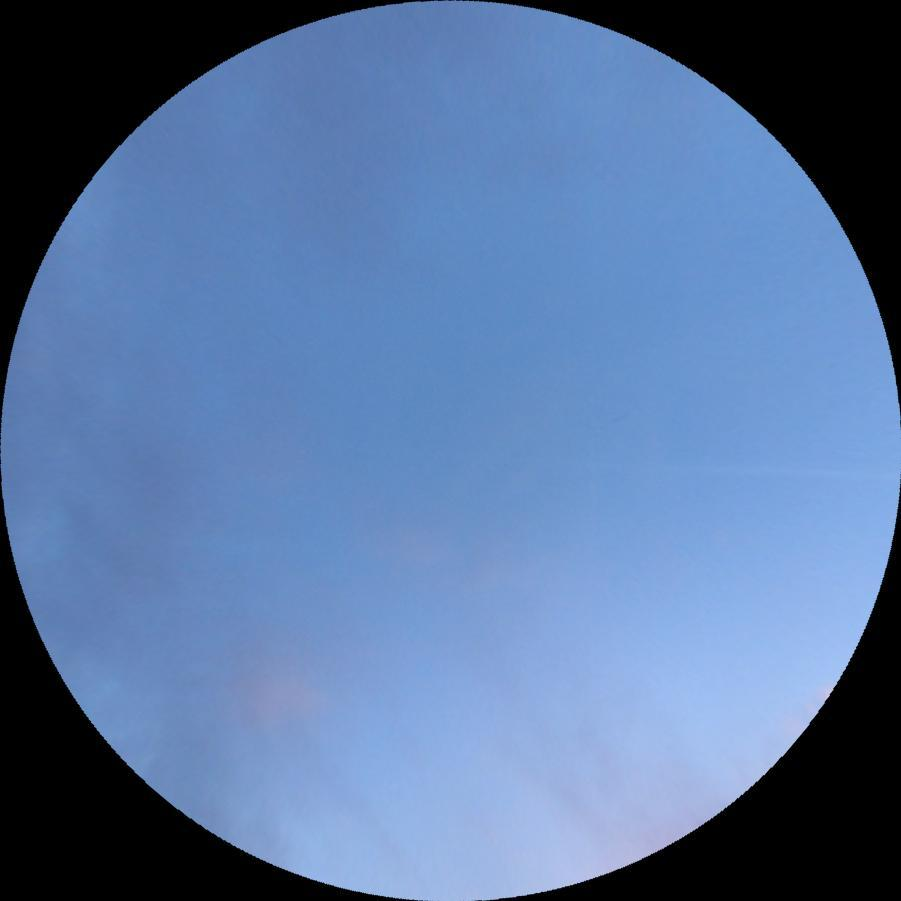contrail old: (417, 438, 897, 487)
